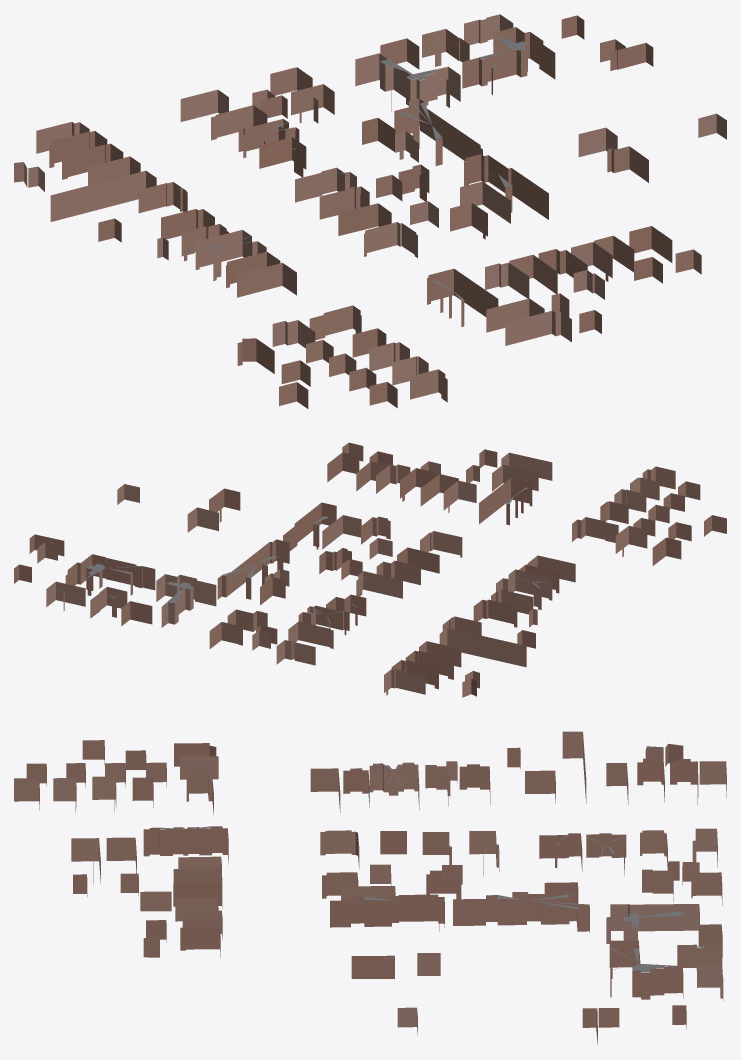
The model's file is c_1637_17829_buildings_residential.glb.
The picture shows the model from 3 angles, top to bottom: view 1: azimuth 30°, elevation 25°; view 2: azimuth 150°, elevation 25°; view 3: azimuth 270°, elevation 25°; orthographic projection. The views are drawn at different scales.
Parts seen in each view (by area): view 1: geometry_0; view 2: geometry_0; view 3: geometry_0.
Part boxes in pixels (left/top/right/bottom): geometry_0: left=14, top=14, right=726, bottom=408; geometry_0: left=14, top=442, right=726, bottom=697; geometry_0: left=14, top=731, right=726, bottom=1044.
Size of the model in its own units: 264 by 16.61 by 265.
